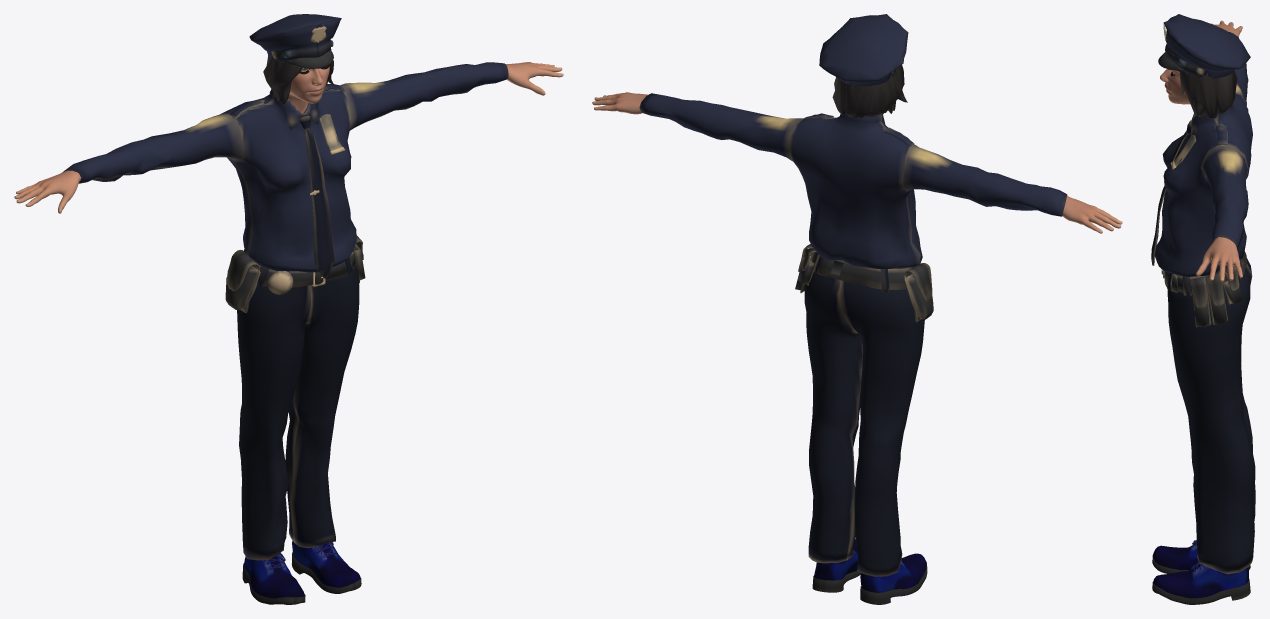
Rendered from female_police.glb.
The picture shows the model from 3 angles, left to right: view 1: azimuth 30°, elevation 25°; view 2: azimuth 150°, elevation 25°; view 3: azimuth 270°, elevation 25°; orthographic projection. The views are drawn at different scales.
Parts seen in each view (by area): view 1: Object_3, Object_2; view 2: Object_3, Object_2; view 3: Object_3, Object_2.
Boxes of the visible parts, x1,y1,x2,y2 form: Object_3: (62, 14, 508, 604); Object_2: (14, 55, 563, 213); Object_3: (639, 14, 1067, 604); Object_2: (592, 65, 1122, 233); Object_3: (1151, 14, 1255, 604); Object_2: (1160, 20, 1242, 281).
Bounding box in the file's own units: 179 × 181 × 30.52.
Materials: 1 (1 with a texture image).
